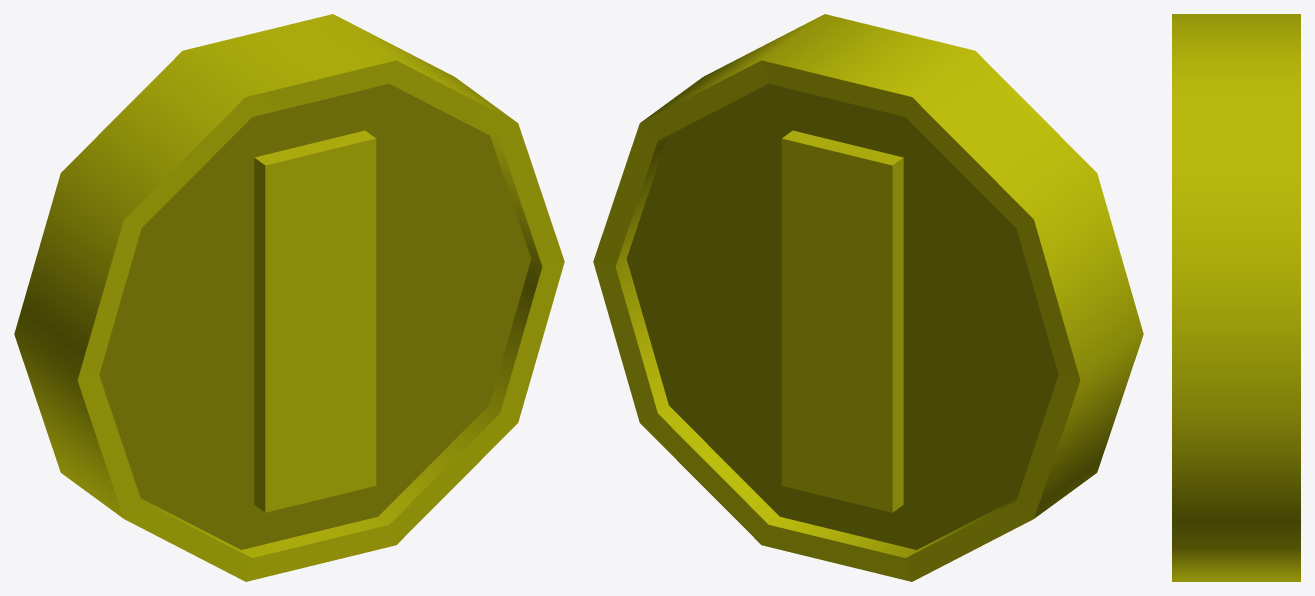
File: coin.fbx
The picture shows the model from 3 angles, left to right: view 1: azimuth 30°, elevation 25°; view 2: azimuth 150°, elevation 25°; view 3: azimuth 270°, elevation 25°; orthographic projection.
Parts seen in each view (by area): view 1: object 1, object 2, obj1; view 2: object 1, object 2, obj1; view 3: object 2.
Boxes of the visible parts, left/top/right/bottom form: object 1: left=99, top=83, right=531, bottom=549; object 2: left=14, top=14, right=564, bottom=581; obj1: left=254, top=130, right=376, bottom=512; object 1: left=626, top=83, right=1058, bottom=549; object 2: left=593, top=14, right=1143, bottom=581; obj1: left=781, top=130, right=903, bottom=512; object 2: left=1172, top=14, right=1300, bottom=581.
Size of the model in its own units: 220 by 209 by 49.49.
